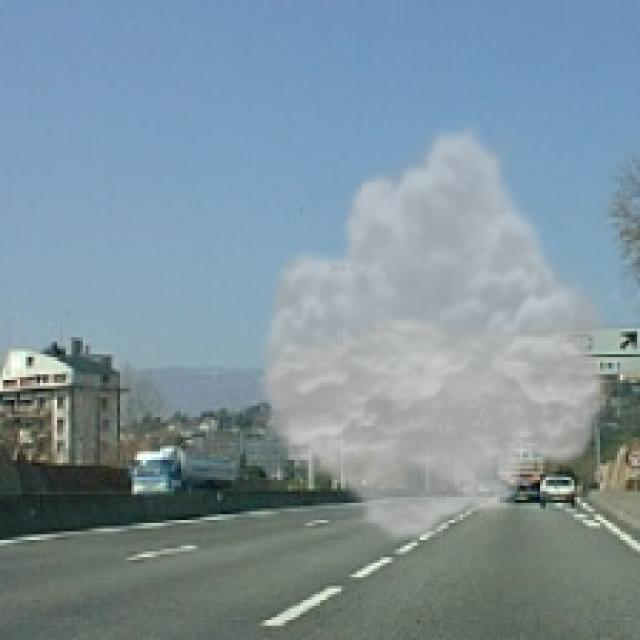smoke: (249, 120, 617, 546)
